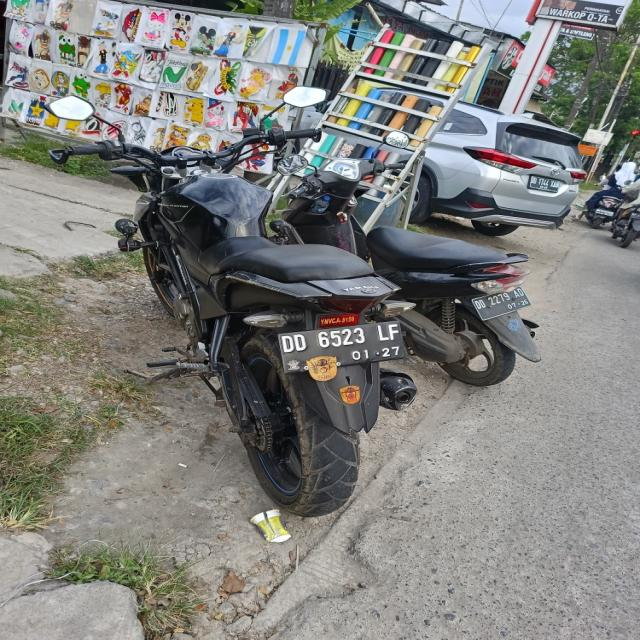plates: (273, 325, 403, 384)
